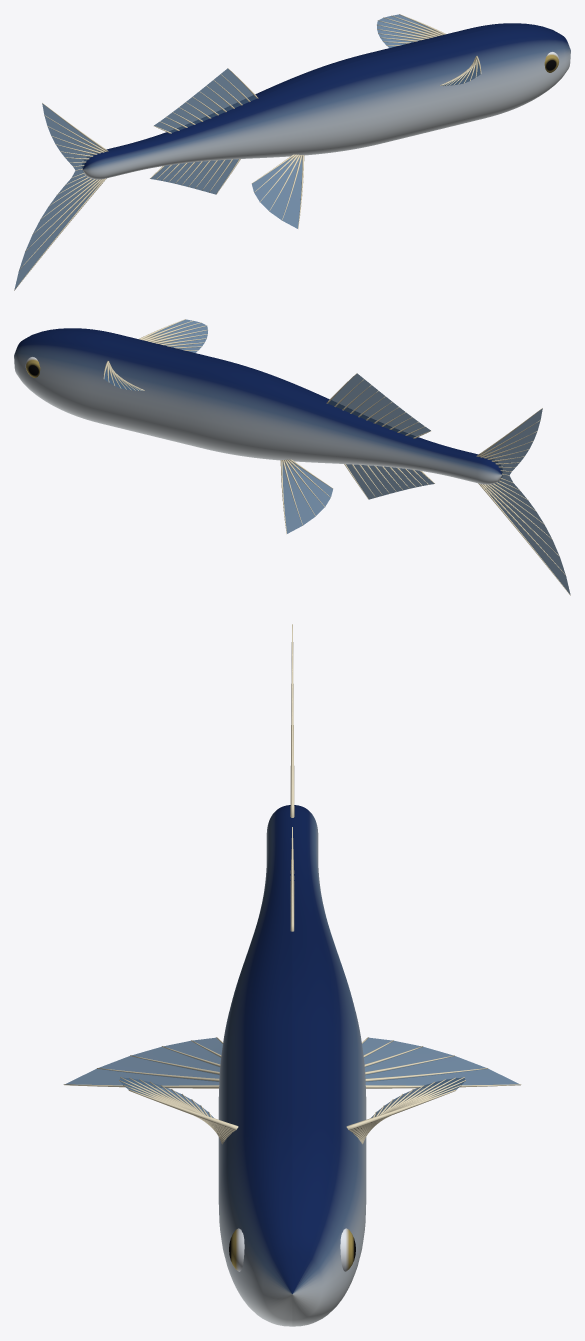
File: wingless-flying-fish.glb
3 renders of one model, top to bottom at view 1: azimuth 30°, elevation 25°; view 2: azimuth 150°, elevation 25°; view 3: azimuth 270°, elevation 25°, orthographic. The views are drawn at different scales.
Visible parts, largest first — view 1: skin_R, caudal_fin, dorsal_fin, pelvic_fin_R, skin_L, anal_fin, caudal_fin_rays, pectoral_fin_L, pelvic_fin_rays_R, dorsal_fin_rays, anal_fin_rays; view 2: skin_L, caudal_fin, dorsal_fin, pelvic_fin_L, skin_R, anal_fin, caudal_fin_rays, pectoral_fin_R, pelvic_fin_rays_L, dorsal_fin_rays, anal_fin_rays; view 3: skin_L, skin_R, pelvic_fin_L, pelvic_fin_R, pelvic_fin_rays_L, pelvic_fin_rays_R.
Boxes of the visible parts, box(x1,y1,x2,y2) form: skin_R: box(83, 26, 570, 179); caudal_fin: box(14, 103, 101, 289); dorsal_fin: box(154, 68, 256, 132); pelvic_fin_R: box(252, 157, 302, 228); skin_L: box(82, 23, 559, 167); anal_fin: box(150, 159, 238, 194); caudal_fin_rays: box(14, 103, 108, 290); pectoral_fin_L: box(377, 14, 434, 47); pelvic_fin_rays_R: box(251, 154, 304, 228); dorsal_fin_rays: box(153, 68, 258, 133); anal_fin_rays: box(150, 159, 240, 194); skin_L: box(14, 331, 501, 484); caudal_fin: box(483, 408, 570, 594); dorsal_fin: box(328, 373, 430, 437); pelvic_fin_L: box(282, 462, 332, 533); skin_R: box(25, 328, 502, 472); anal_fin: box(346, 464, 434, 499); caudal_fin_rays: box(476, 408, 570, 595); pectoral_fin_R: box(150, 319, 207, 352); pelvic_fin_rays_L: box(280, 459, 333, 533); dorsal_fin_rays: box(326, 373, 431, 438); anal_fin_rays: box(344, 464, 434, 499); skin_L: box(292, 805, 366, 1326); skin_R: box(218, 805, 292, 1326); pelvic_fin_L: box(362, 1037, 519, 1085); pelvic_fin_R: box(65, 1037, 222, 1085); pelvic_fin_rays_L: box(361, 1037, 521, 1088); pelvic_fin_rays_R: box(63, 1037, 223, 1088).
Bounding box in the file's own units: 0.9725 × 0.3027 × 0.3459.
